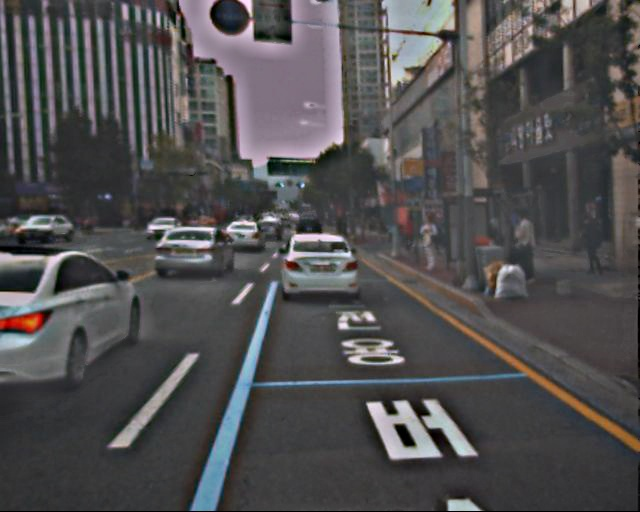person: (509, 209, 541, 287), (577, 214, 605, 282), (419, 217, 442, 273), (401, 213, 418, 254)
